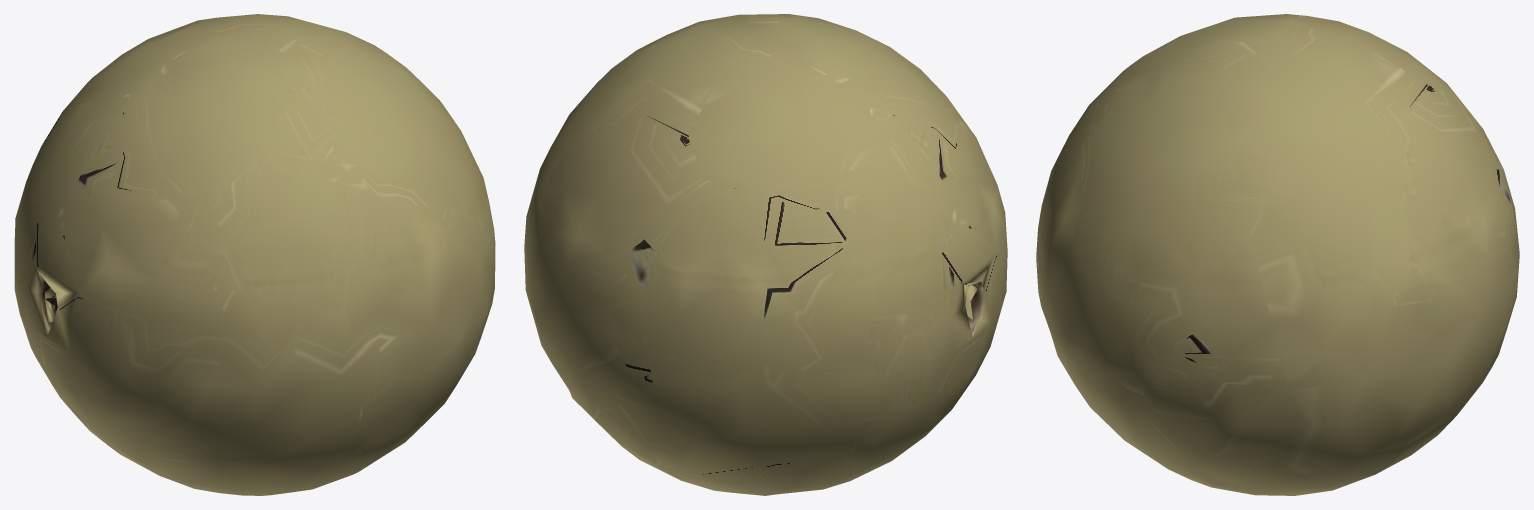
Rendered from ball_pingpong.glb.
3 renders of one model, left to right at view 1: azimuth 30°, elevation 25°; view 2: azimuth 150°, elevation 25°; view 3: azimuth 270°, elevation 25°, orthographic.
Parts seen in each view (by area): view 1: tripo_node_a048b84b-db0c-4197-94cb-e3bb872a8dc5; view 2: tripo_node_a048b84b-db0c-4197-94cb-e3bb872a8dc5; view 3: tripo_node_a048b84b-db0c-4197-94cb-e3bb872a8dc5.
Part boxes in pixels (x1,y1,x2,y2): tripo_node_a048b84b-db0c-4197-94cb-e3bb872a8dc5: [14, 14, 495, 495]; tripo_node_a048b84b-db0c-4197-94cb-e3bb872a8dc5: [524, 14, 1007, 495]; tripo_node_a048b84b-db0c-4197-94cb-e3bb872a8dc5: [1036, 14, 1519, 495].
Bounding box in the file's own units: 0.9921 × 0.9985 × 0.9968.
1 material, 1 textured.
